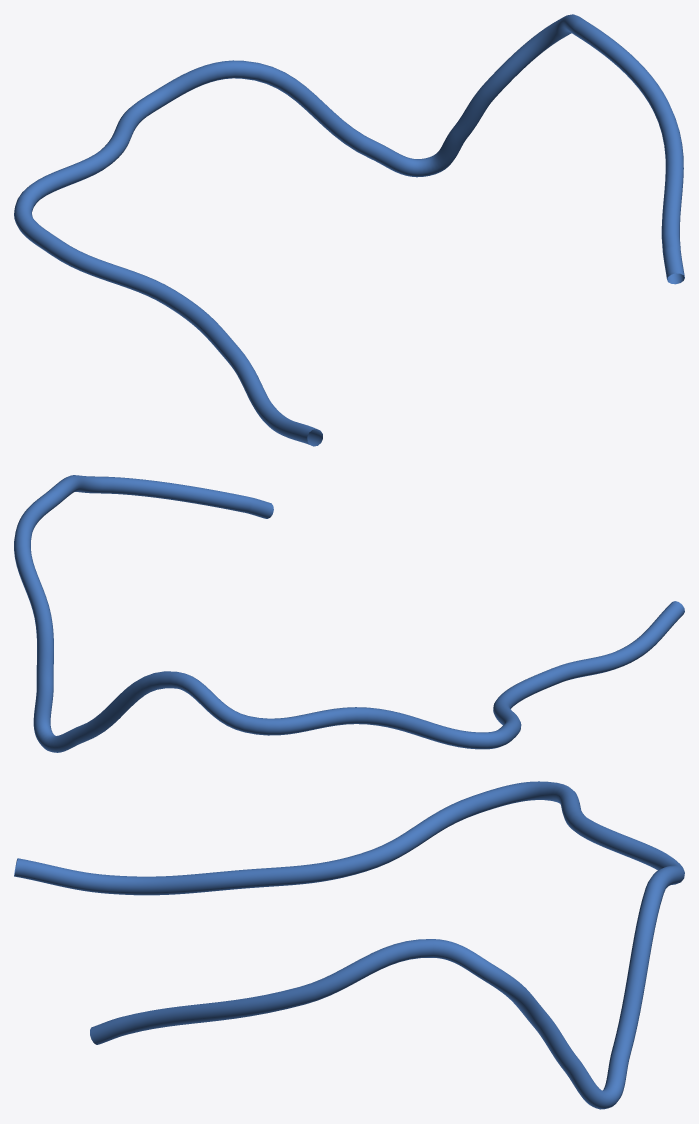
3 renders of one model, top to bottom at view 1: azimuth 30°, elevation 25°; view 2: azimuth 150°, elevation 25°; view 3: azimuth 270°, elevation 25°, orthographic. The views are drawn at different scales.
Parts seen in each view (by area): view 1: 左侧掌深静脉弓; view 2: 左侧掌深静脉弓; view 3: 左侧掌深静脉弓.
Part boxes in pixels (x1,y1,x2,y2): 左侧掌深静脉弓: (14, 14, 684, 446); 左侧掌深静脉弓: (14, 475, 684, 752); 左侧掌深静脉弓: (14, 781, 684, 1109).
Bounding box in the file's own units: 0.0718 × 0.0247 × 0.0725.
